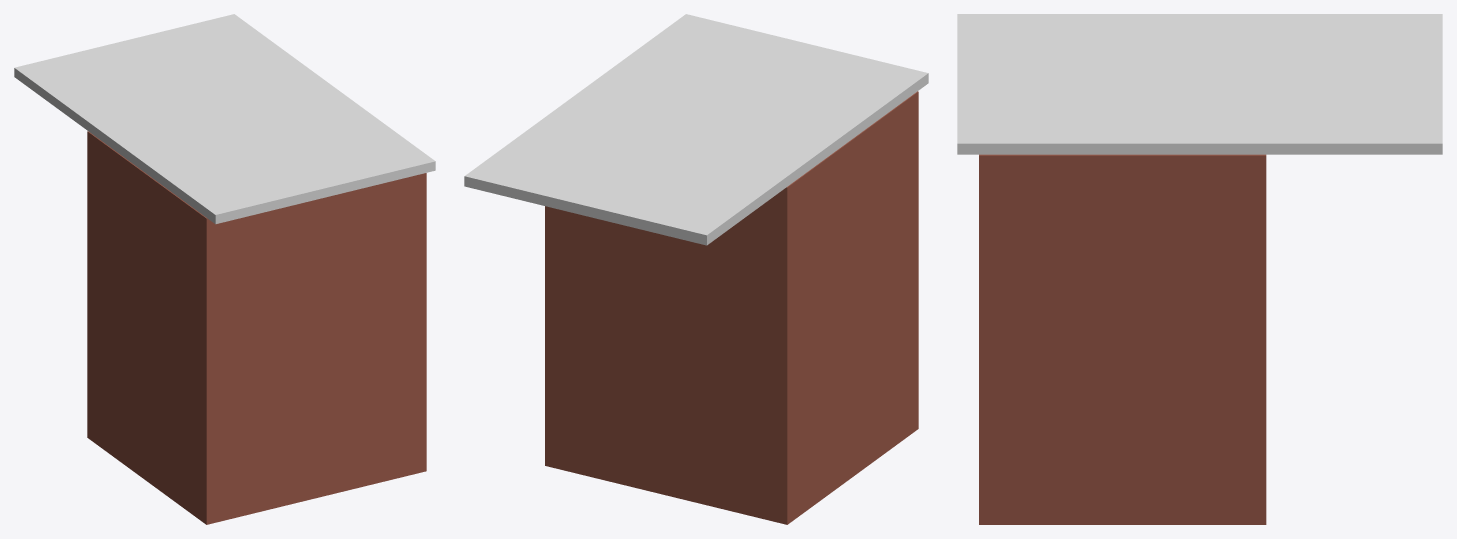
File: SM_counter_dining.fbx
3 views of the same model, side by side, from view 1: azimuth 30°, elevation 25°; view 2: azimuth 150°, elevation 25°; view 3: azimuth 270°, elevation 25° (orthographic). The views are drawn at different scales.
Visible parts, largest first — view 1: Cube.022; view 2: Cube.022; view 3: Cube.022.
Boxes of the visible parts, x1,y1,x2,y2 form: Cube.022: (14,14,435,524); Cube.022: (464,14,928,524); Cube.022: (957,14,1442,524).
Bounding box in the file's own units: 60 × 82.42 × 95.
